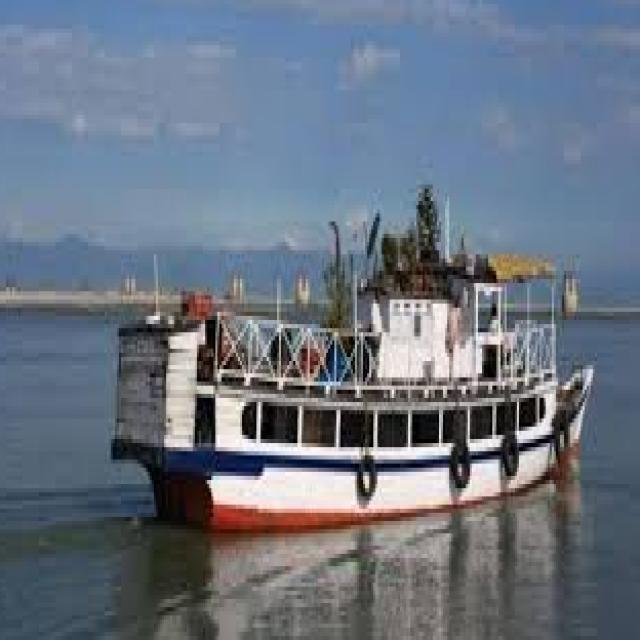fishing boat: (102, 209, 596, 529)
